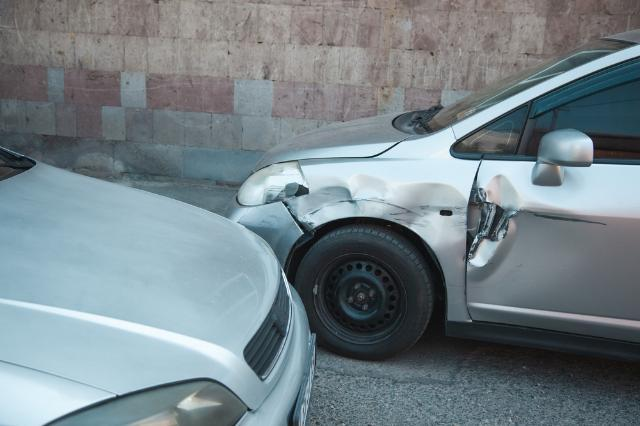crack: (484, 204, 504, 242)
dent: (296, 174, 469, 249), (470, 172, 583, 280)
lamp broken: (237, 160, 311, 206)
